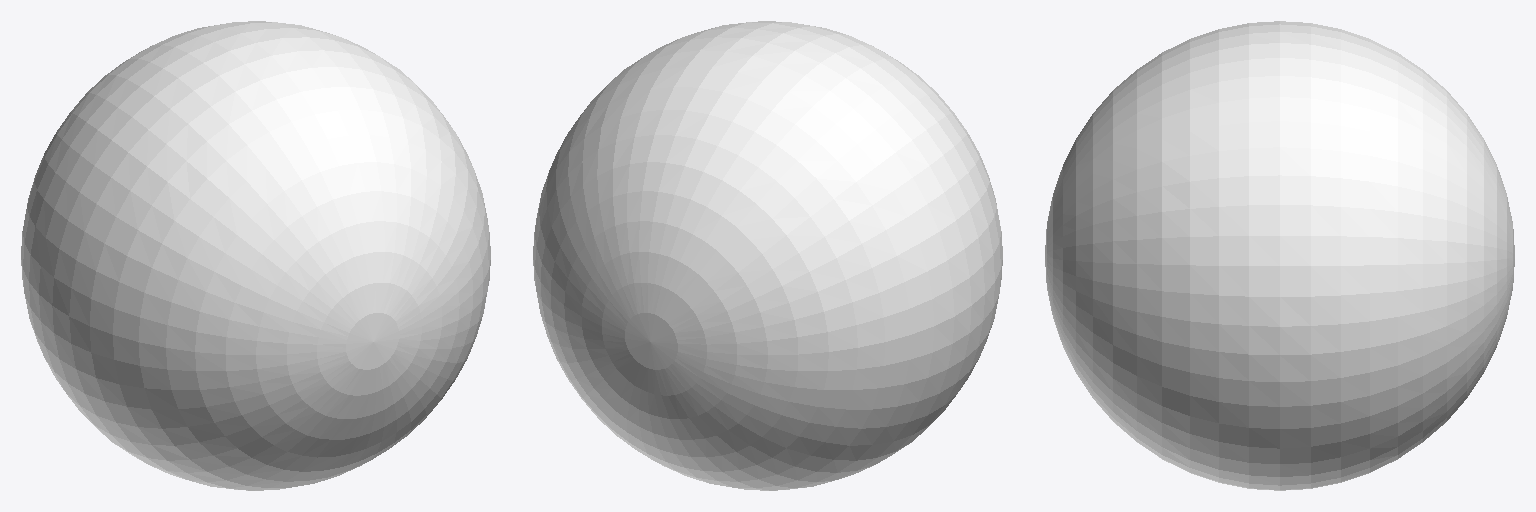
3 views of the same model, side by side, from view 1: azimuth 30°, elevation 25°; view 2: azimuth 150°, elevation 25°; view 3: azimuth 270°, elevation 25° (orthographic).
Parts seen in each view (by area): view 1: obj_0; view 2: obj_0; view 3: obj_0.
Part boxes in pixels (x1,y1,x2,y2): obj_0: (21,21,490,490); obj_0: (533,21,1002,490); obj_0: (1045,21,1514,490).
Size of the model in its own units: 1 by 1 by 1.